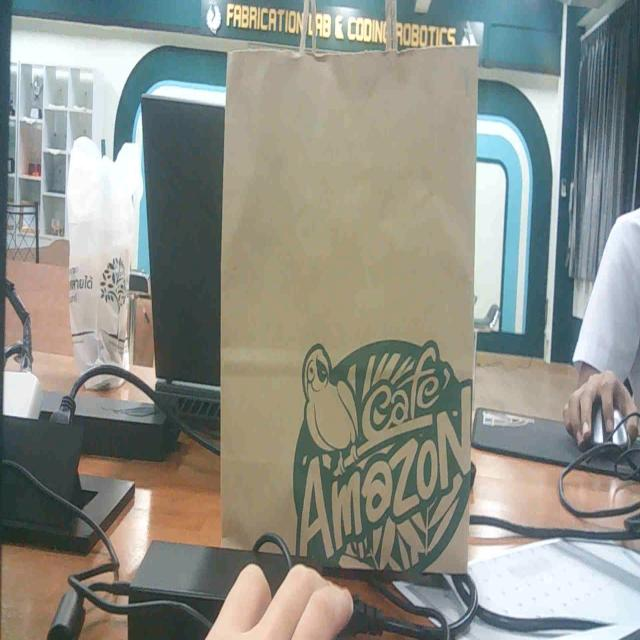bag: (189, 18, 506, 596)
